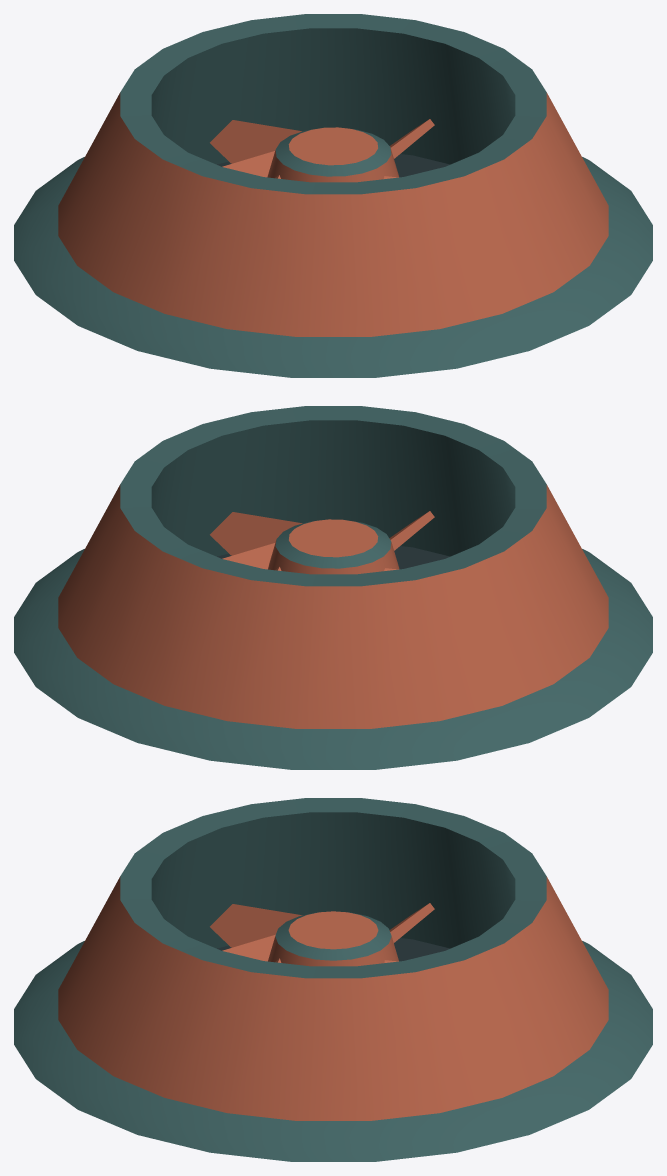
Rendered from SeaFan.gltf.
3 views of the same model, one above another, from view 1: azimuth 30°, elevation 25°; view 2: azimuth 150°, elevation 25°; view 3: azimuth 270°, elevation 25° (orthographic).
Visible parts, largest first — view 1: Cylinder_022, Cylinder_023; view 2: Cylinder_022, Cylinder_023; view 3: Cylinder_022, Cylinder_023.
Boxes of the visible parts, x1,y1,x2,y2 form: Cylinder_022: (14,14,652,377); Cylinder_023: (210,119,434,182); Cylinder_022: (14,406,652,769); Cylinder_023: (210,511,434,574); Cylinder_022: (14,798,652,1161); Cylinder_023: (210,903,434,966).
Bounding box in the file's own units: 1.68 × 0.4424 × 1.68.
